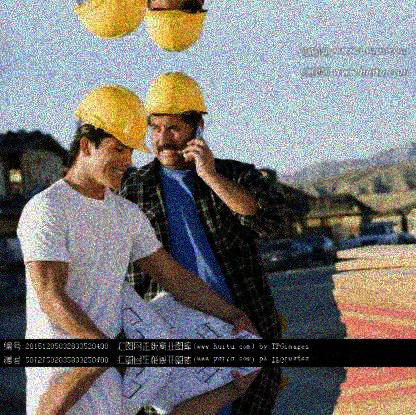helmet: (70, 83, 151, 200), (144, 72, 209, 170)
